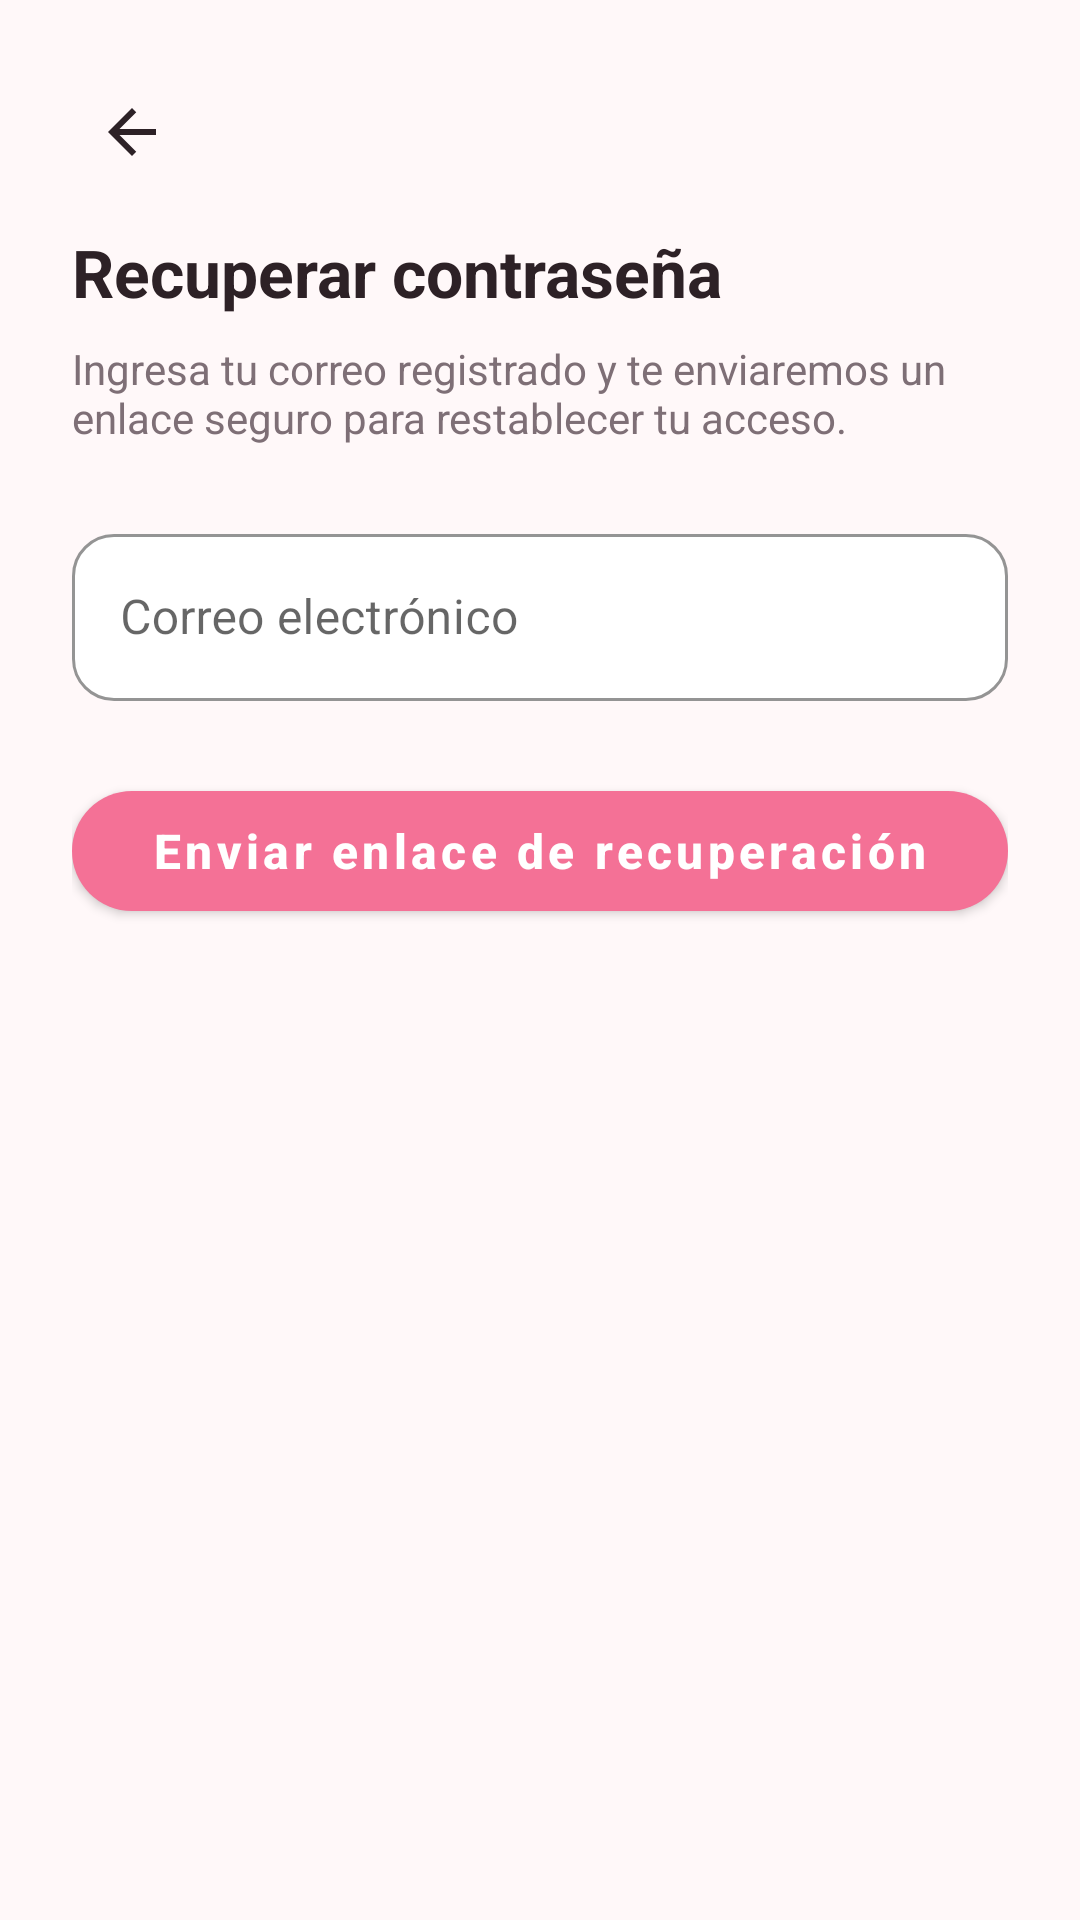

Icon click points for this 1080w x 1920h phone screenshot, format (x,y):
Volver: (132,132)
